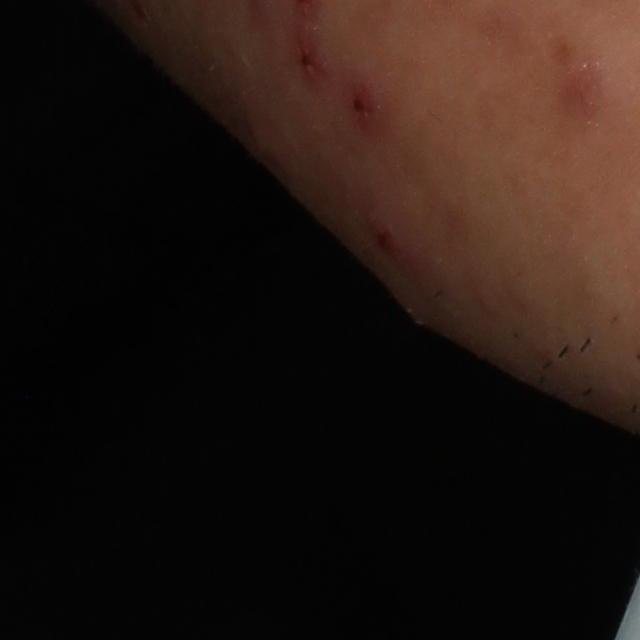papule: (554, 41, 611, 115), (341, 83, 377, 135), (363, 215, 402, 256), (293, 33, 328, 75)
